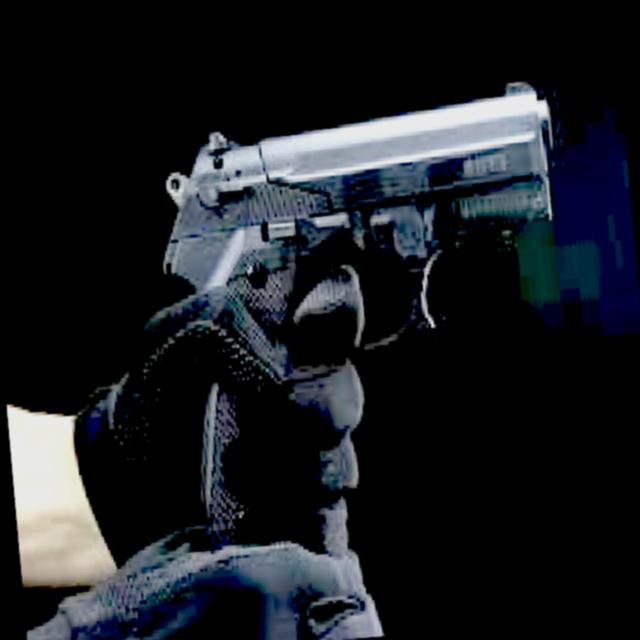semi automatic: (106, 55, 601, 627)
